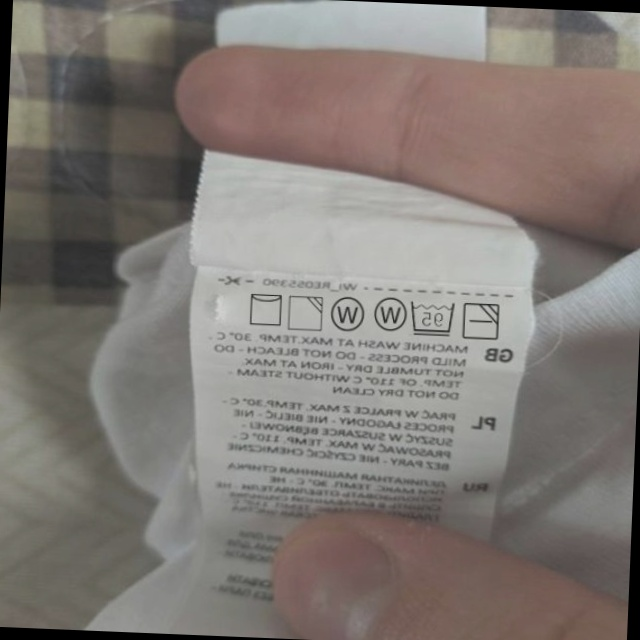95C: (407, 298, 457, 338)
dry_flat_in_shade: (461, 299, 502, 343)
line_dry: (245, 289, 285, 328)
shade_dry: (285, 293, 325, 333)
wet_clean: (328, 294, 366, 335), (371, 292, 407, 334)
